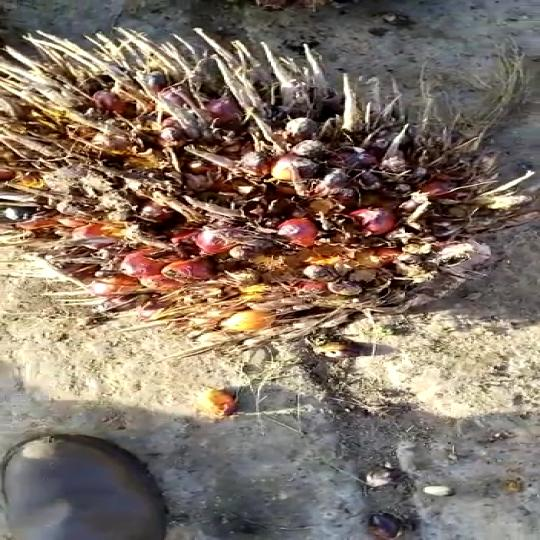terlalu masak: (0, 19, 540, 392)
